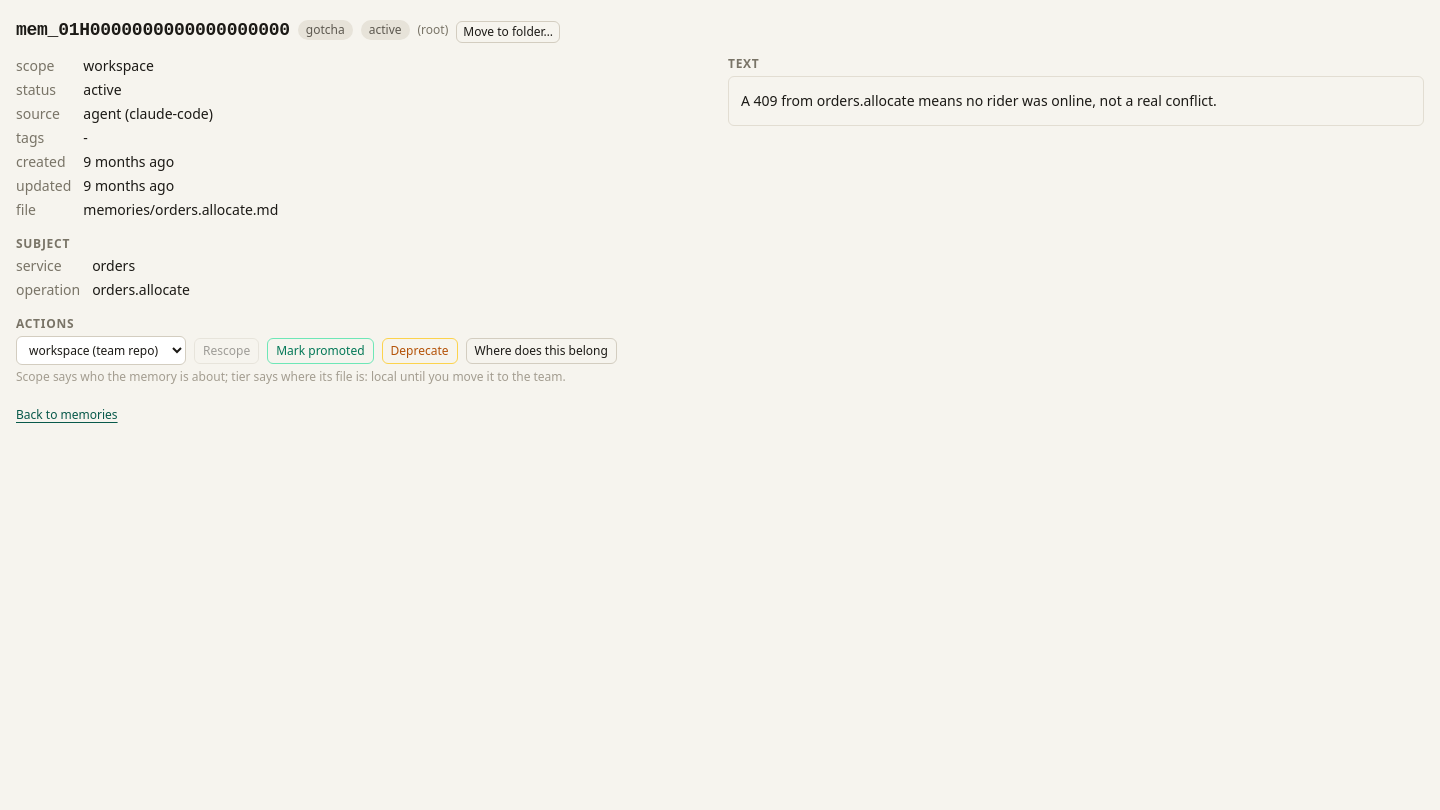
Test: MemoryDetailPage › fetches and renders the promotion target on demand
Expected: the heading "mem_01H0000000000000000000" is shown, [16,16,290,44]
What coordinates should you click on to do the following:
click the button "Where does this belong"
I would click on:
 (541, 350)
Its box is [466,338,617,364].
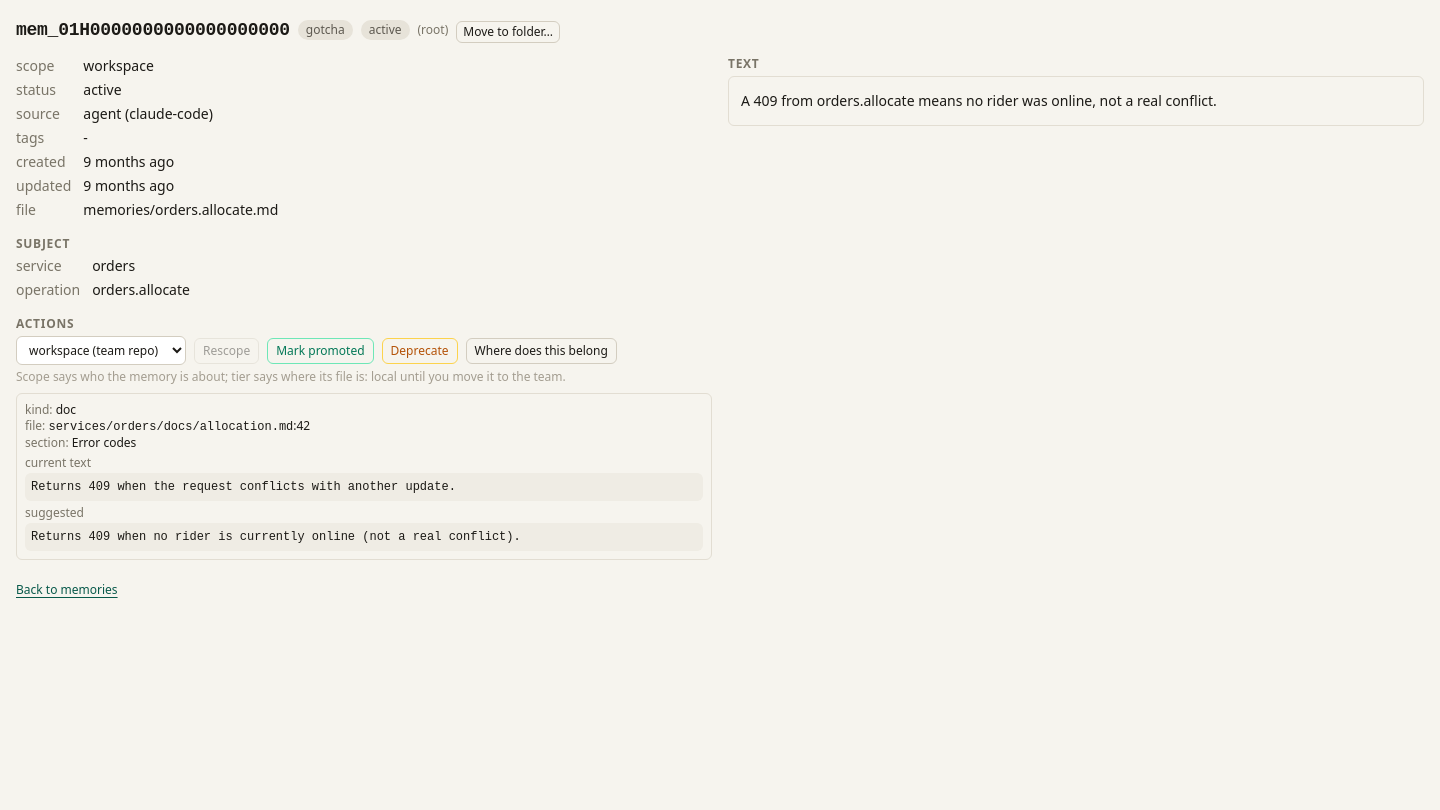
Expected: the text "services/orders/docs/allocation.md" is shown, [48,420,293,434]
Expected: the text "file: services/orders/docs/allocation.md:42" is shown, [25,417,310,434]
Expected: the text "Error codes" is shown, [72,434,136,451]
